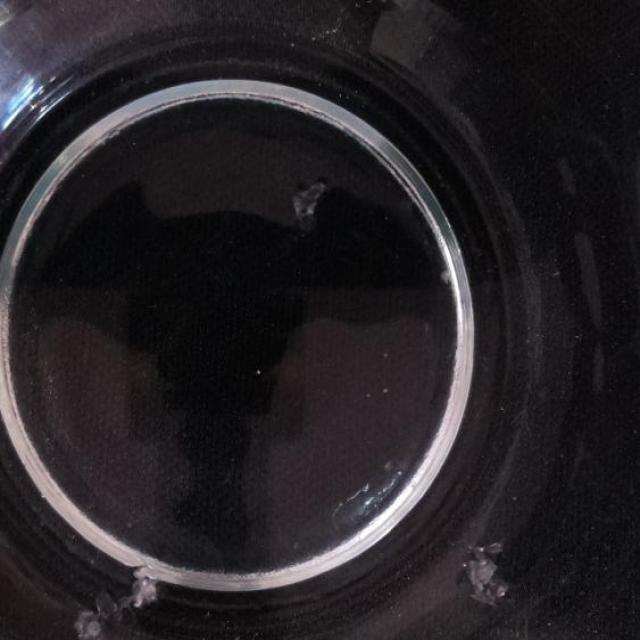fiber: (59, 564, 166, 639), (449, 527, 512, 617), (292, 175, 340, 228)
